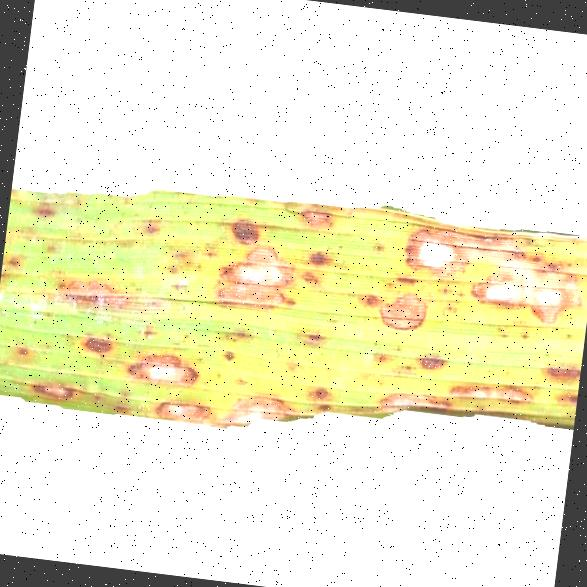Brown_Spot: (370, 359, 548, 431), (208, 220, 315, 313), (460, 241, 582, 322), (34, 260, 176, 324), (356, 266, 450, 342), (389, 204, 477, 277), (24, 370, 134, 419), (219, 374, 308, 434), (120, 339, 206, 386), (153, 386, 216, 428), (67, 317, 124, 362), (536, 348, 580, 406), (222, 206, 270, 247), (410, 338, 454, 376), (304, 375, 339, 418), (289, 202, 340, 228), (29, 193, 64, 222), (296, 316, 332, 344), (7, 336, 40, 363)
